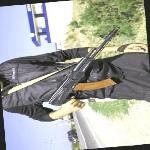Senapan: (42, 22, 124, 116)
